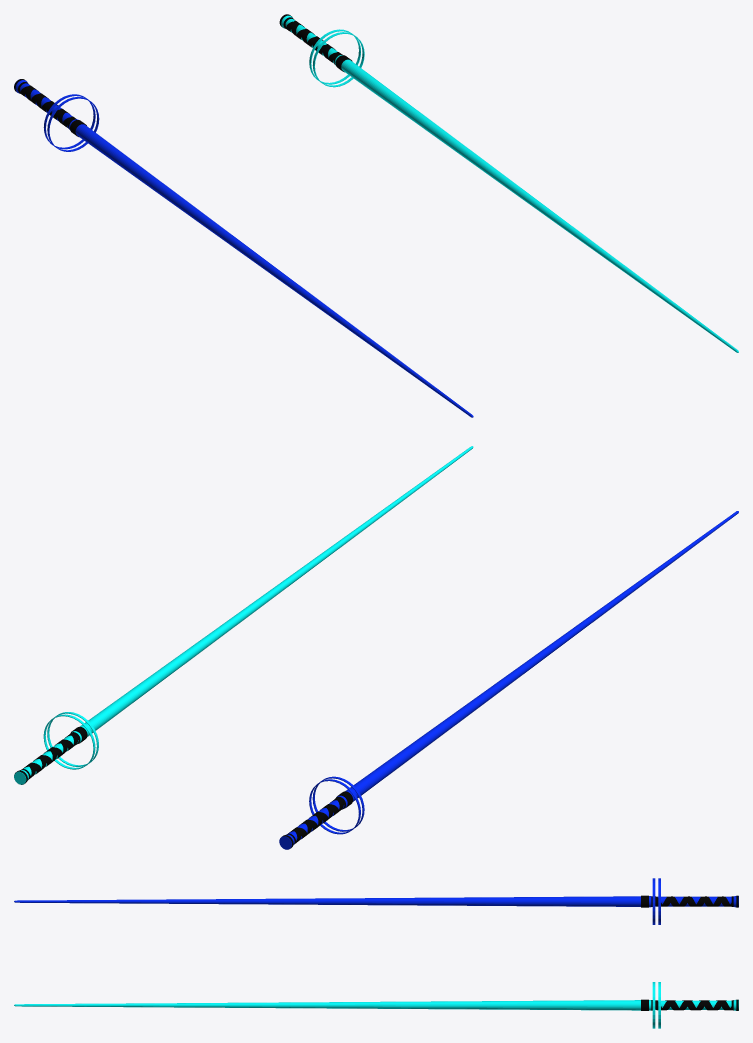
Rendered from _CustomSaber.fbx.
3 views of the same model, one above another, from view 1: azimuth 30°, elevation 25°; view 2: azimuth 150°, elevation 25°; view 3: azimuth 270°, elevation 25° (orthographic). The views are drawn at different scales.
Parts seen in each view (by area): view 1: Cylinder.005 (×2), Cylinder.004 (×2); view 2: Cylinder.005 (×2), Cylinder.004 (×2); view 3: Cylinder.005 (×2), Plane (×2), Cylinder (×2), Cylinder.004 (×2).
Boxes of the visible parts, x1,y1,x2,y2 form: Cylinder.005 (×2): (75, 59, 738, 417); Cylinder.004 (×2): (43, 29, 364, 151); Cylinder.005 (×2): (80, 446, 738, 801); Cylinder.004 (×2): (43, 712, 364, 834); Cylinder.005 (×2): (14, 896, 640, 1010); Plane (×2): (655, 896, 731, 1010); Cylinder (×2): (649, 896, 738, 1010); Cylinder.004 (×2): (652, 878, 660, 1028).
Size of the model in its own units: 0.4758 by 0.0758 by 1.18.
